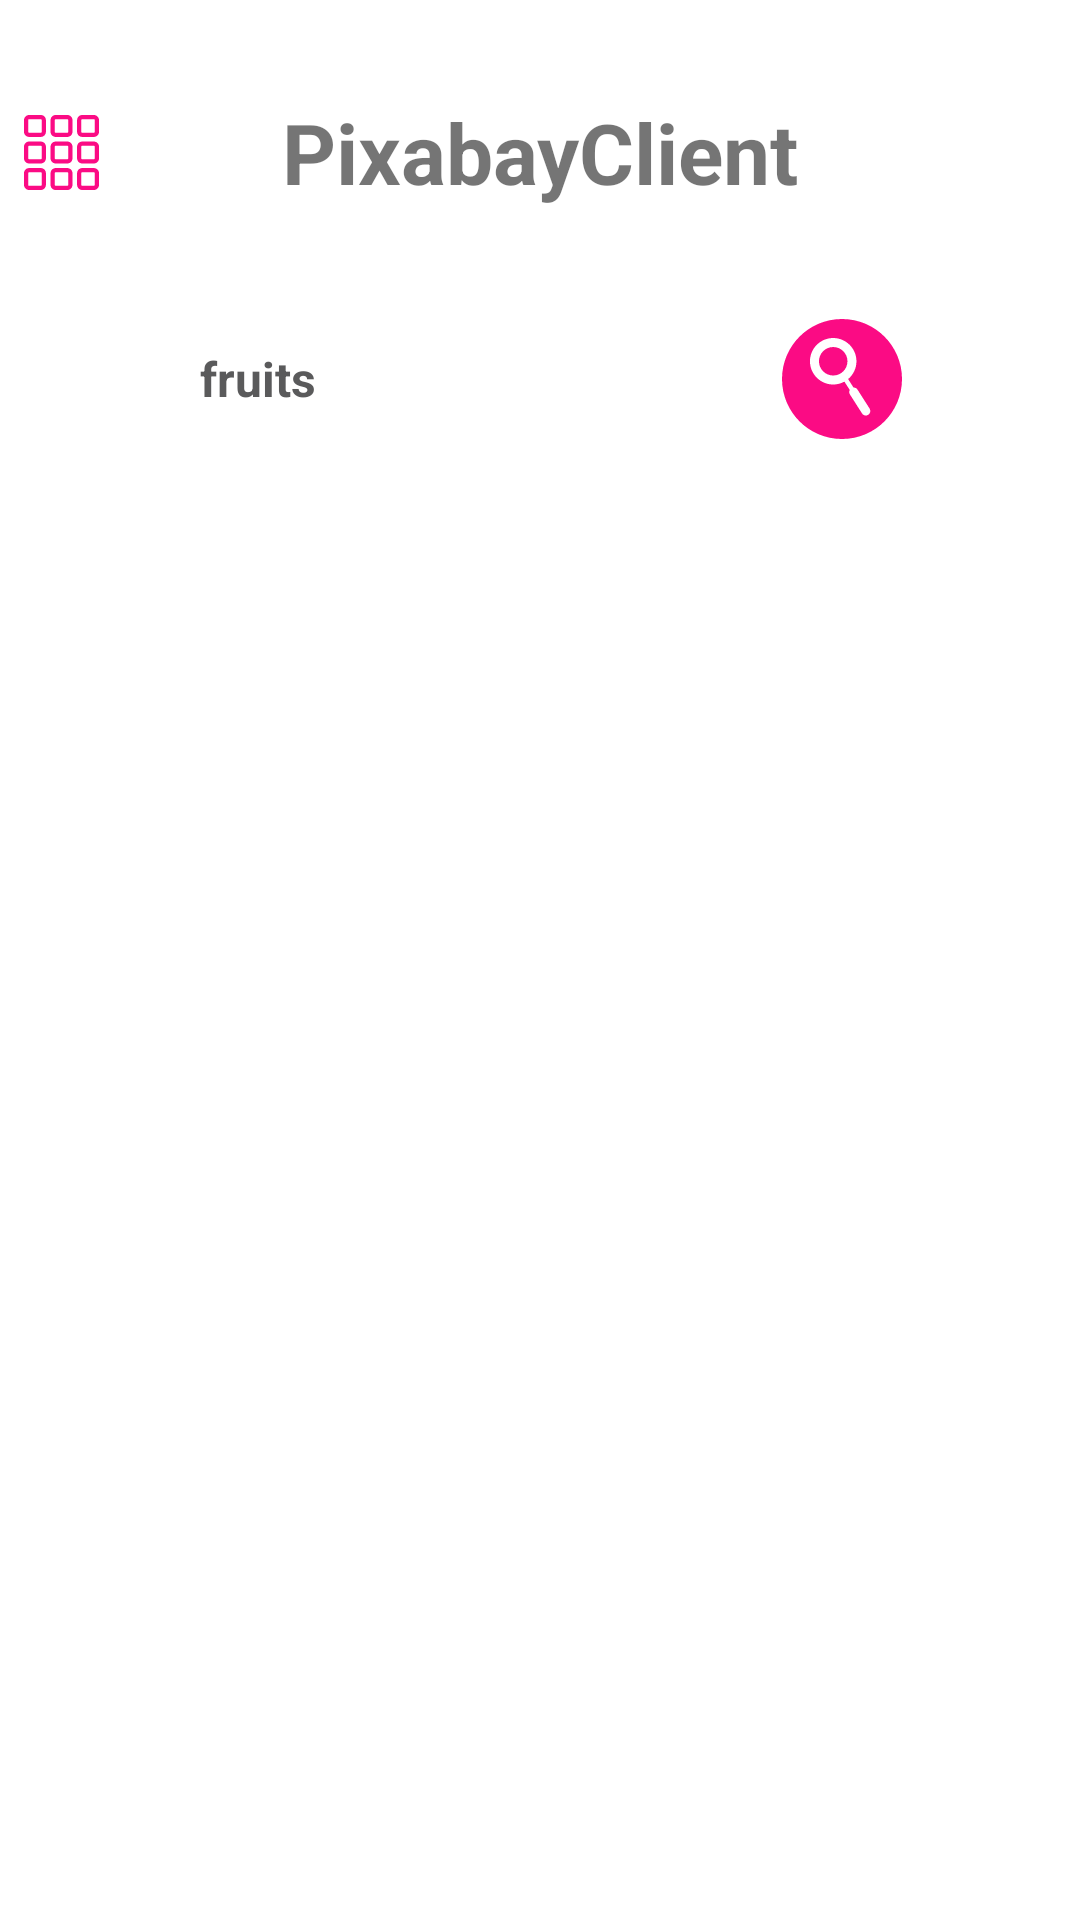

Icons on this 1080w x 1920h Android screen, each with its box as bbox(x1, y1, x2, y2):
menu: bbox(24, 115, 99, 190)
search: bbox(782, 319, 902, 439)
